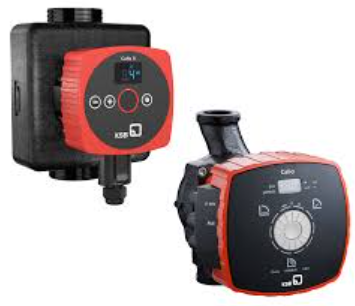Calio S / Calio BMS: (5, 2, 351, 297)
